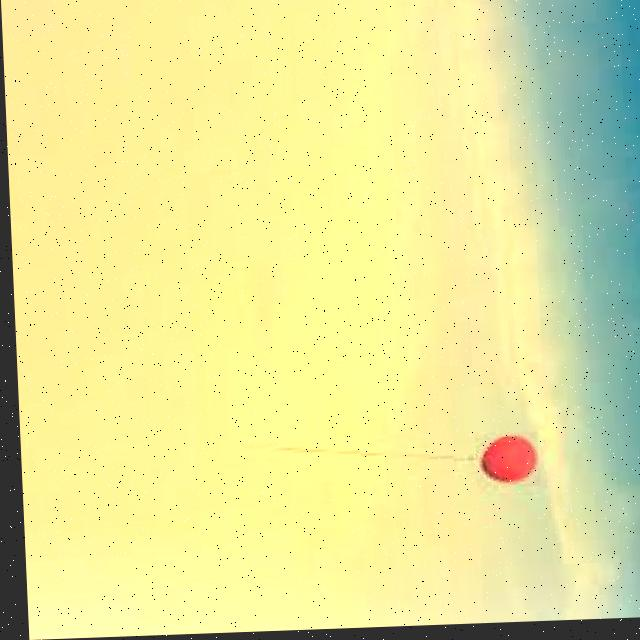balloon: (470, 436, 535, 492)
